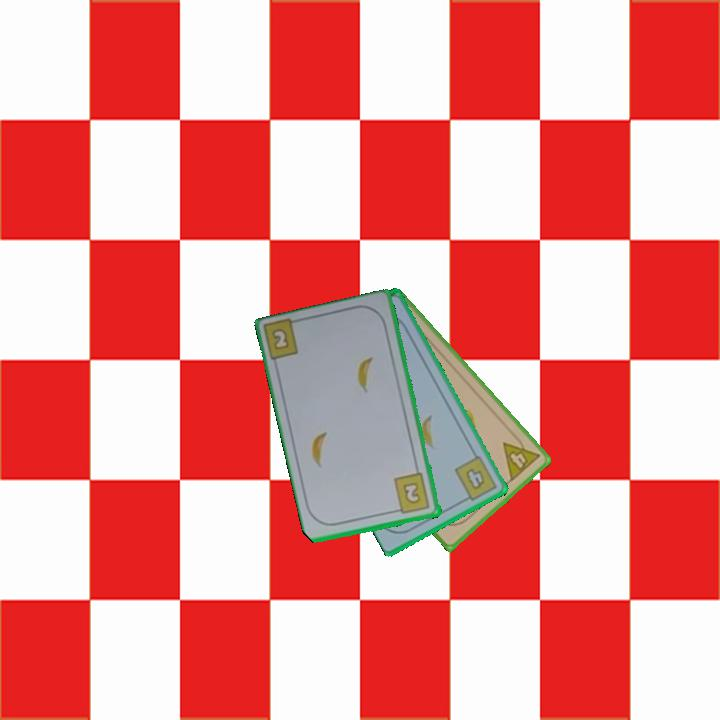2b: (391, 470, 433, 517), (268, 325, 292, 353)
4b: (451, 452, 500, 505)
4p: (499, 430, 543, 484)
